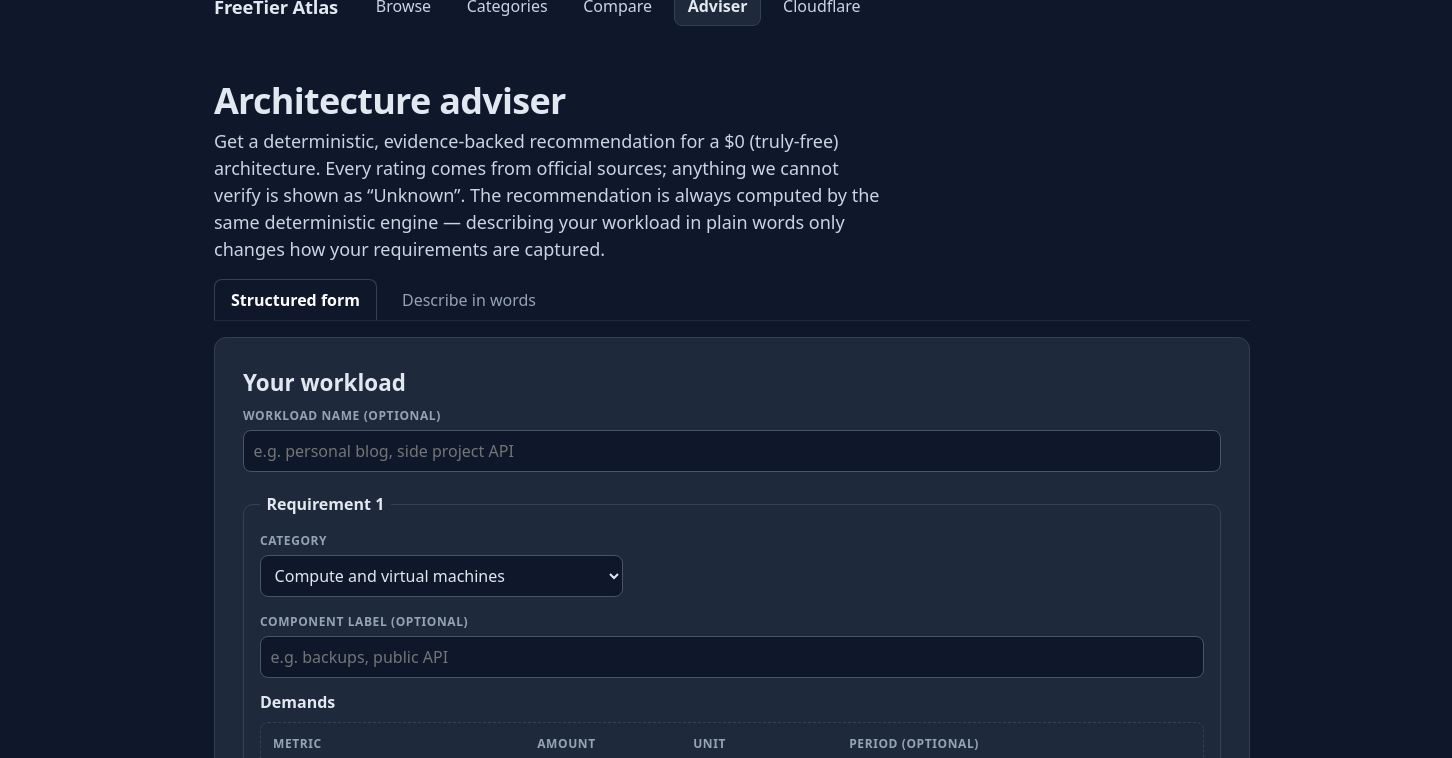
Test case: App — adviser recommendation experience (F006 slice 4) › shows an actionable error when the adviser API rejects the request
Expected: the heading "Architecture adviser" is shown, top-left (214, 76), bottom-right (566, 125)
Select "Serverless functions" in the dropdown labelled "Category": (442,576) top-left (260, 555), bottom-right (623, 597)
(page scrolled)
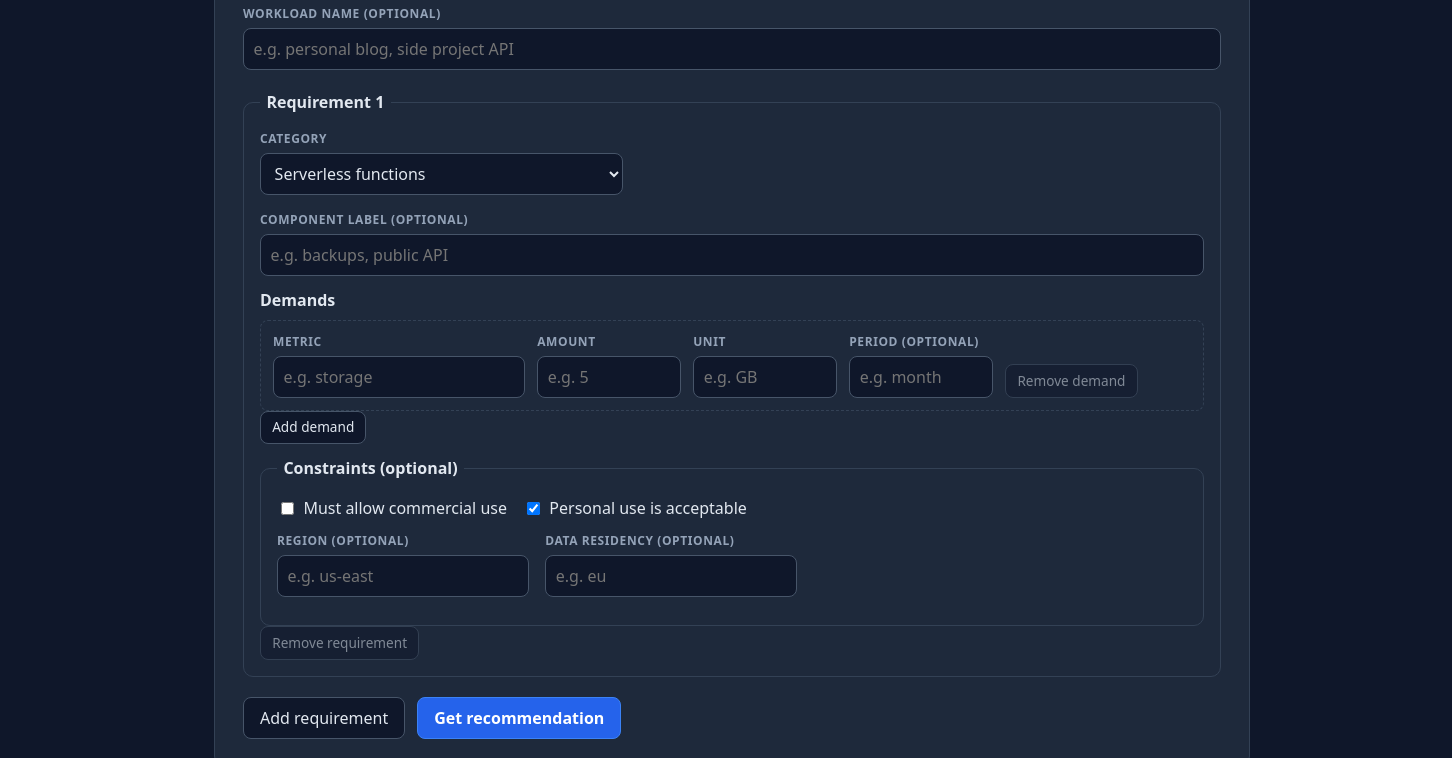
In the field labelled "Metric": (399,377) top-left (273, 356), bottom-right (525, 398), type "invocations"
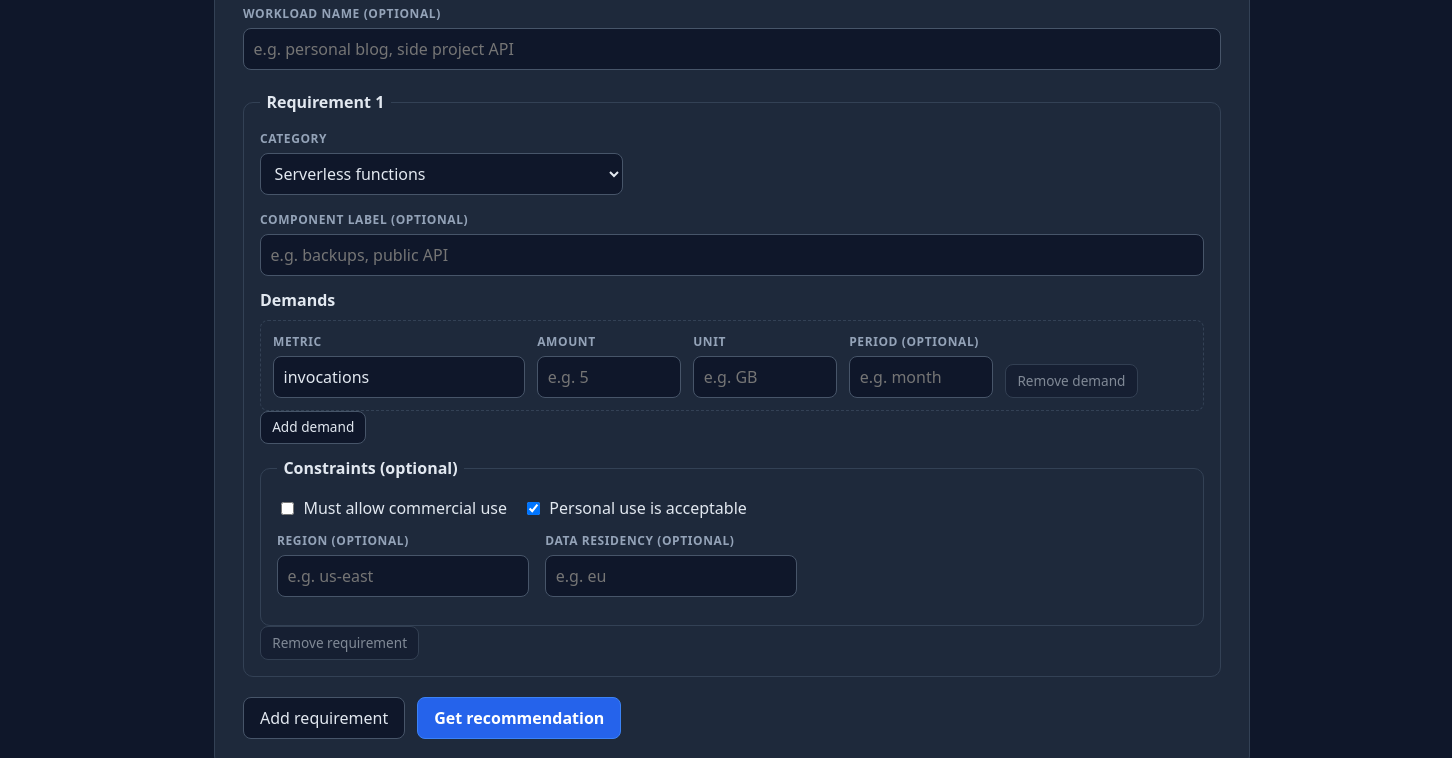
In the number field labelled "Amount": (609,377) top-left (537, 356), bottom-right (681, 398), type "1000"
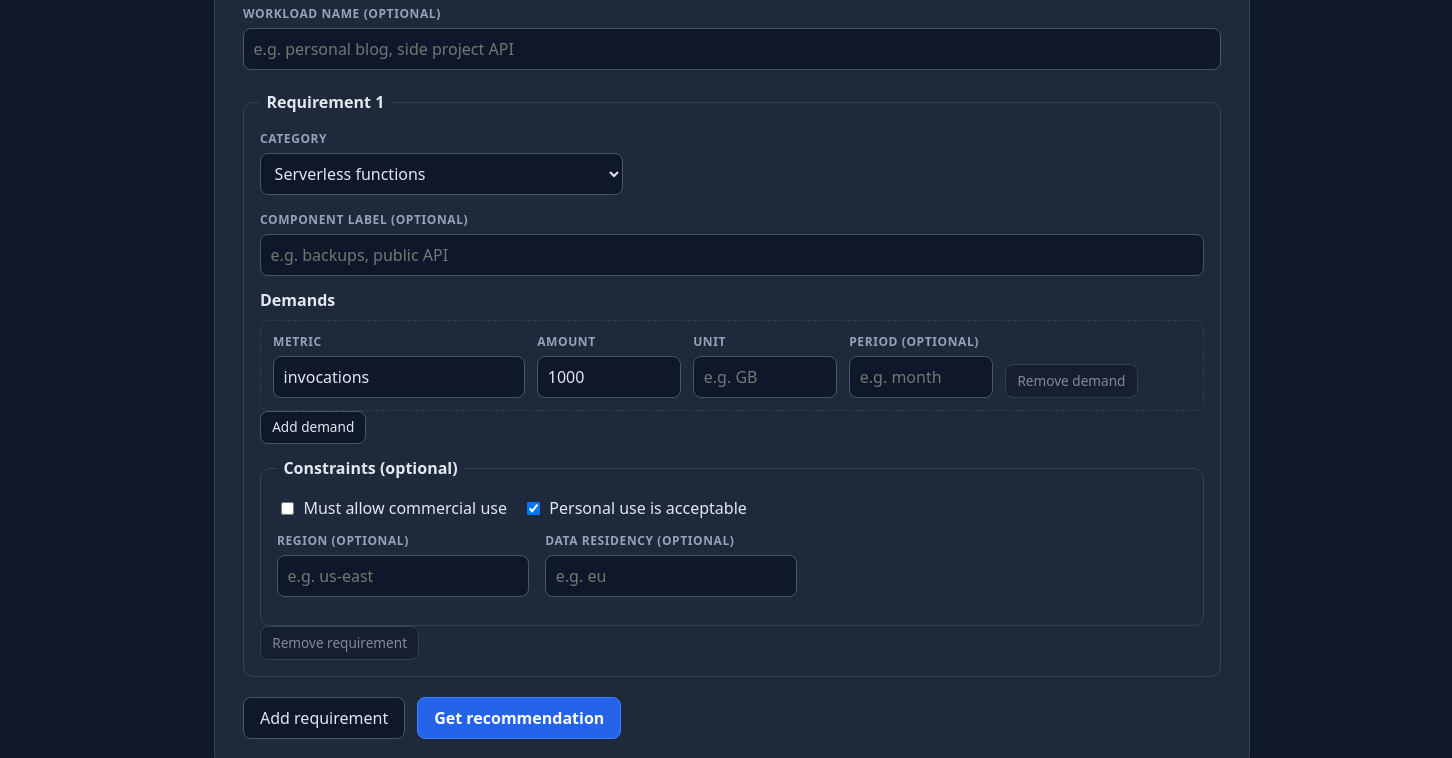
In the field labelled "Unit": (765,377) top-left (693, 356), bottom-right (837, 398), type "count"
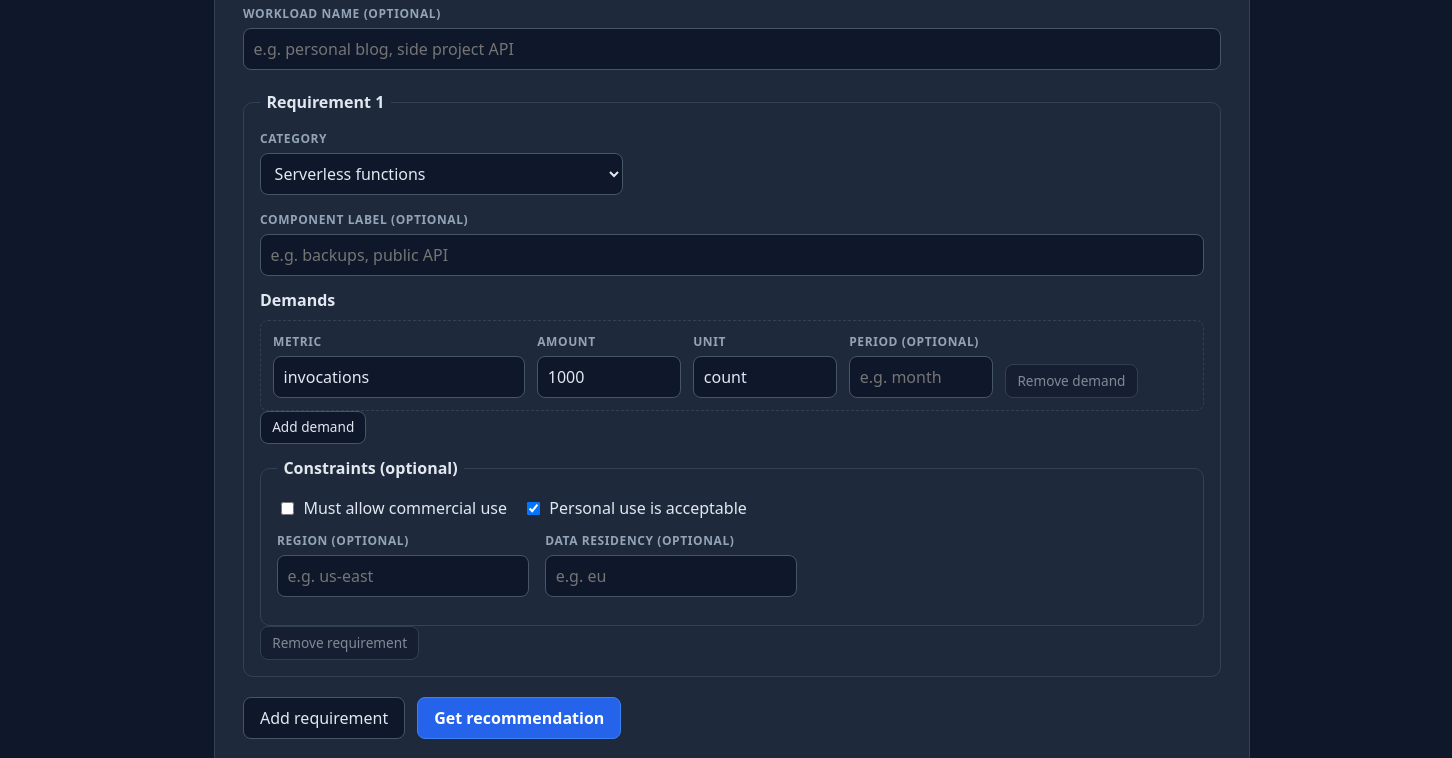
Submit the form named "describe your workload"
(page scrolled)
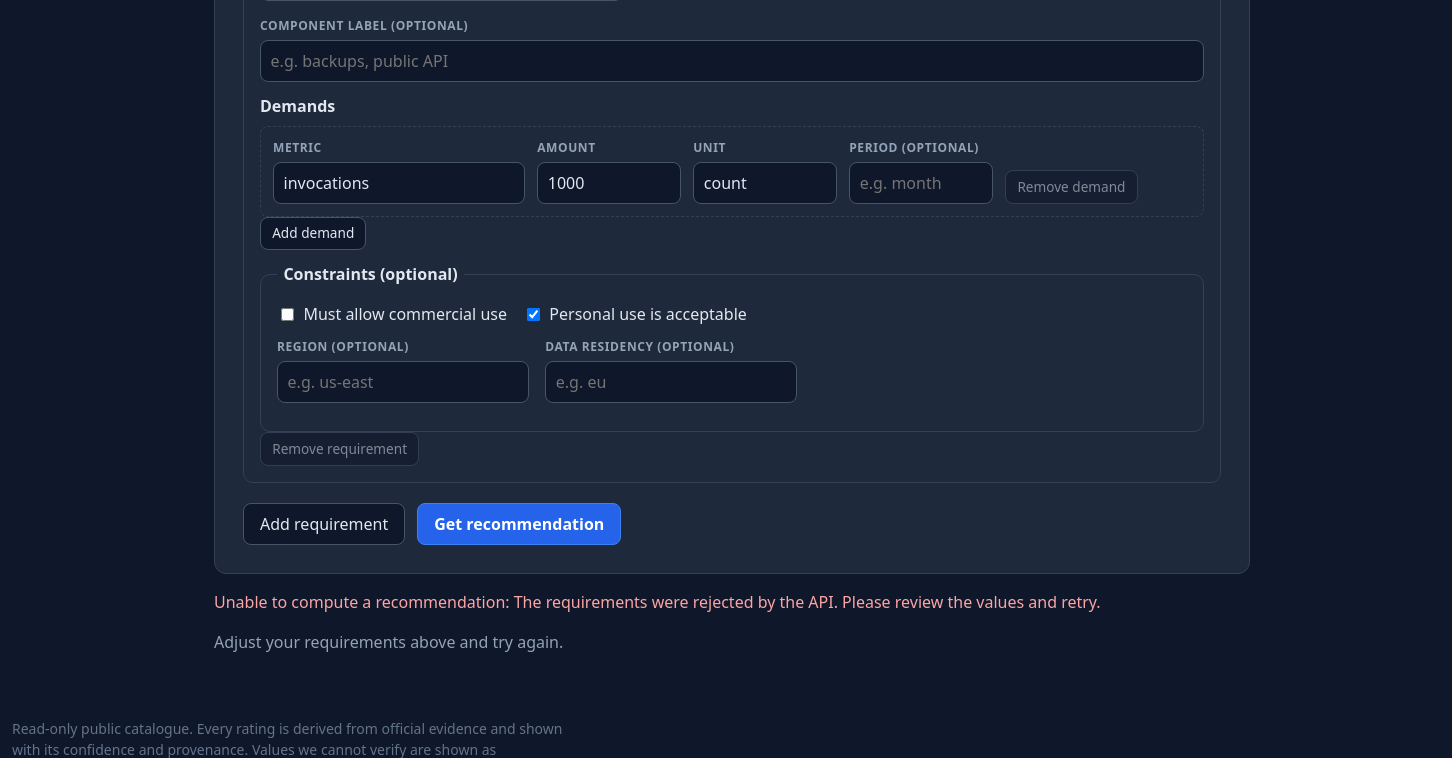
Expected: the message is shown, top-left (214, 590), bottom-right (1250, 654)
Expected: the text "rejected by the API" is shown, top-left (514, 590), bottom-right (1101, 612)
